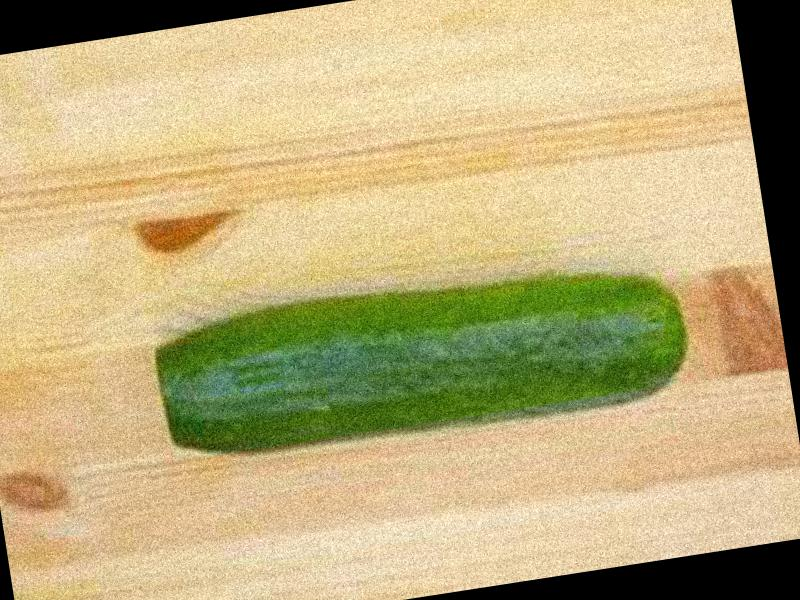Cucumber: (154, 250, 695, 471)
